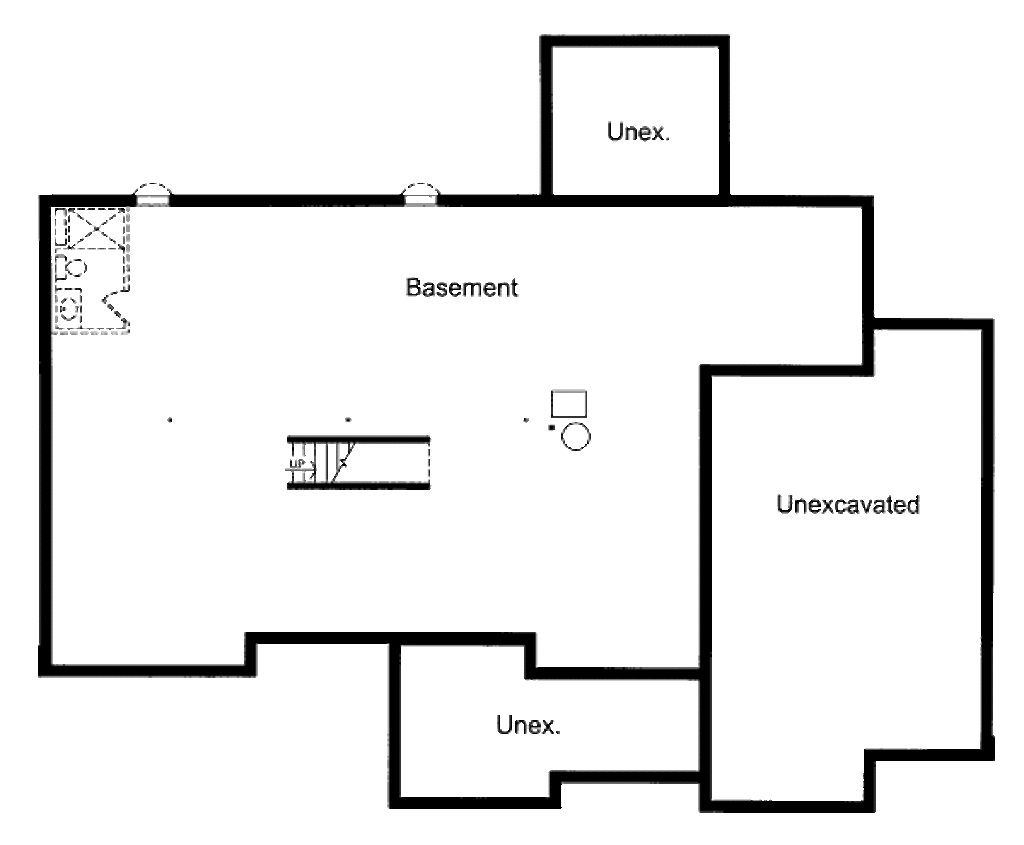door: (97, 286, 142, 329)
large_sink: (52, 251, 93, 286)
small_sink: (49, 286, 88, 334)
stairs: (280, 426, 452, 504)
